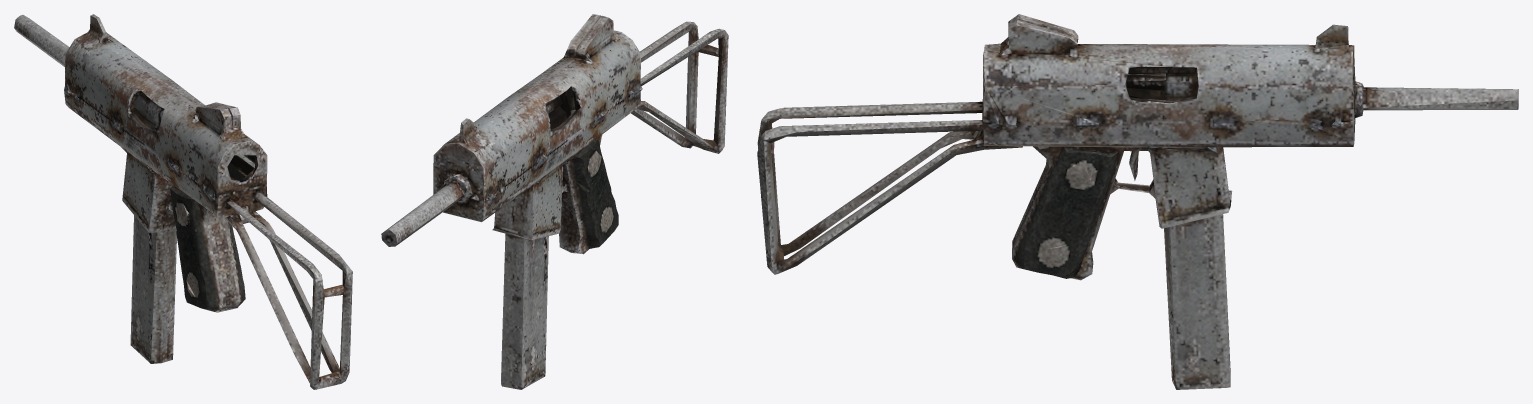
File: scrap_tp.glb
3 renders of one model, left to right at view 1: azimuth 30°, elevation 25°; view 2: azimuth 150°, elevation 25°; view 3: azimuth 270°, elevation 25°, orthographic. The views are drawn at different scales.
Visible parts, largest first — view 1: scrap_tp; view 2: scrap_tp; view 3: scrap_tp.
Part boxes in pixels (box(x1,y1,x2,y2)): scrap_tp: box(14, 14, 352, 389); scrap_tp: box(381, 14, 728, 389); scrap_tp: box(757, 14, 1518, 389).
Size of the model in its own units: 0.058 by 0.2908 by 0.5493.
1 material, 1 textured.
